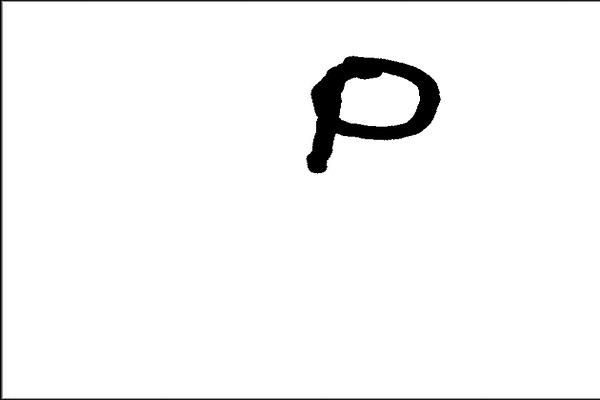P: (298, 44, 441, 185)
